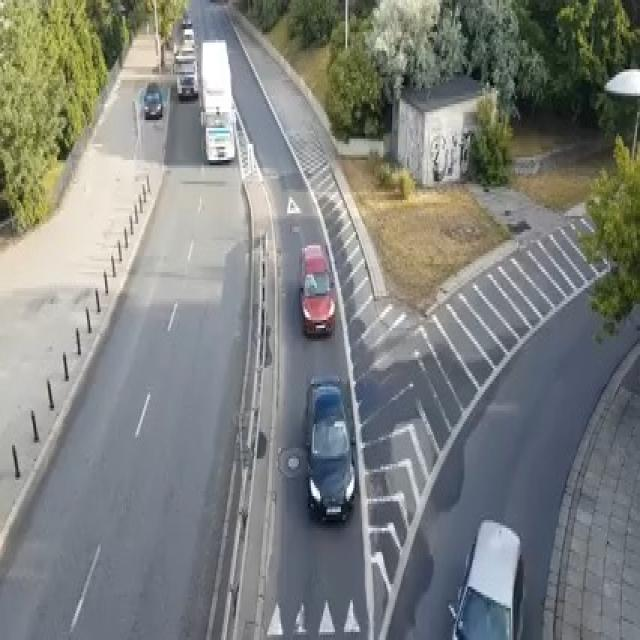bus: (198, 37, 234, 163)
car: (446, 518, 524, 638), (305, 373, 355, 523), (298, 243, 336, 336), (204, 106, 234, 162), (176, 58, 198, 98), (173, 42, 195, 74), (143, 80, 162, 117), (182, 27, 194, 45), (182, 8, 192, 27)
